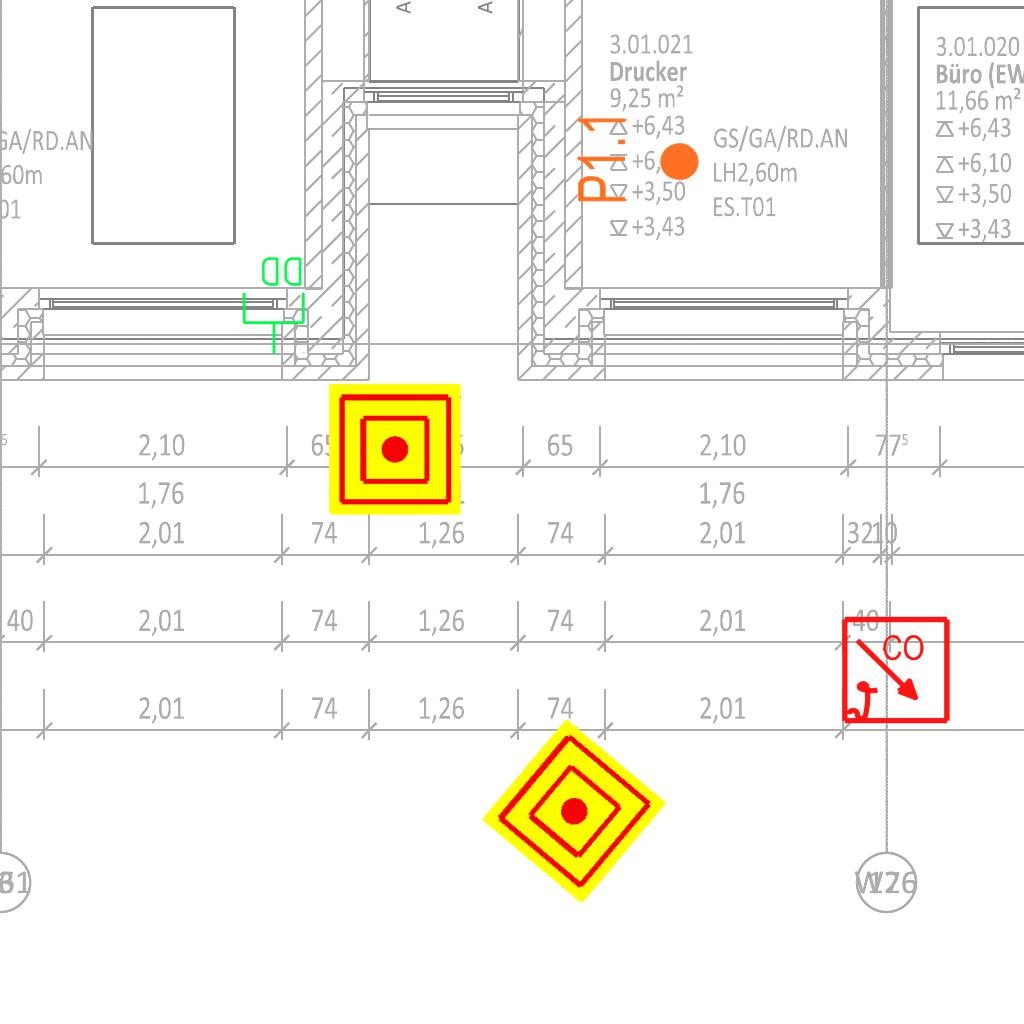Datenanschluss_zweifach: (240, 253, 309, 356)
Downlight_LED_Einbauleuchten_Flur: (574, 112, 702, 205)
NAM-Nichtautomatischer_Melder: (481, 718, 667, 904), (329, 383, 461, 515)
ROA_Rauchmelder_optisch_mit_Signalgeber_(Sockelsirene): (840, 615, 953, 728)
